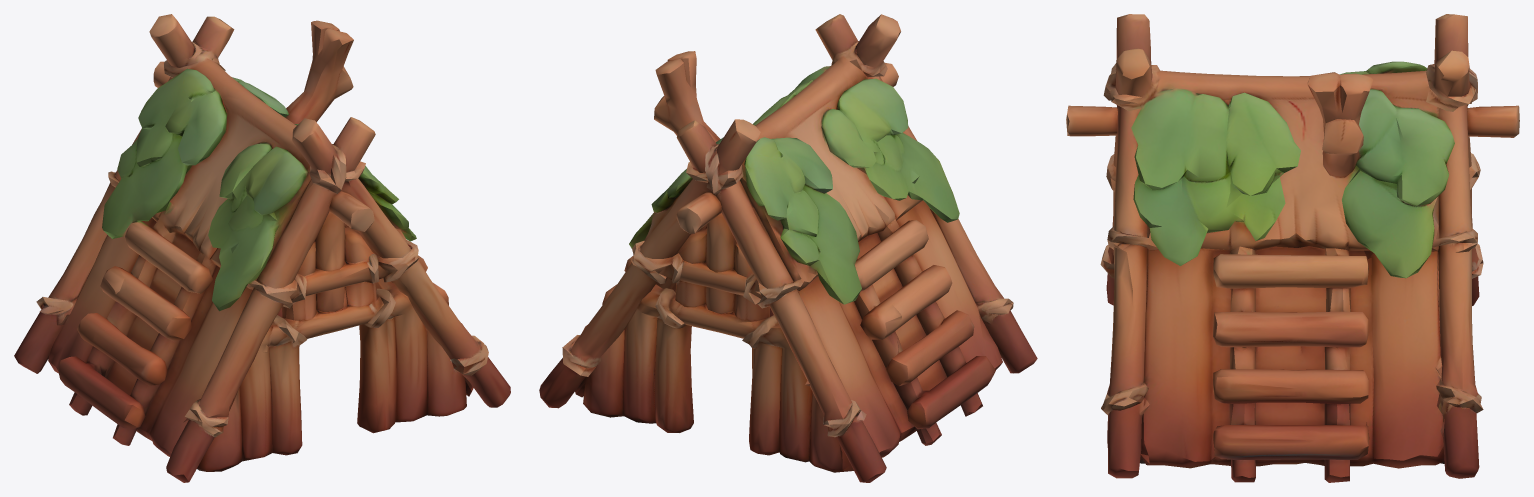
Rendered from stick_house.glb.
The picture shows the model from 3 angles, left to right: view 1: azimuth 30°, elevation 25°; view 2: azimuth 150°, elevation 25°; view 3: azimuth 270°, elevation 25°; orthographic projection. The views are drawn at different scales.
Visible parts, largest first — view 1: stick_house; view 2: stick_house; view 3: stick_house.
Part boxes in pixels (x1,y1,x2,y2): stick_house: (14,14,510,482); stick_house: (539,14,1037,482); stick_house: (1066,14,1519,482).
Size of the model in its own units: 5.76 by 5.2 by 5.76.
1 material, 1 textured.
